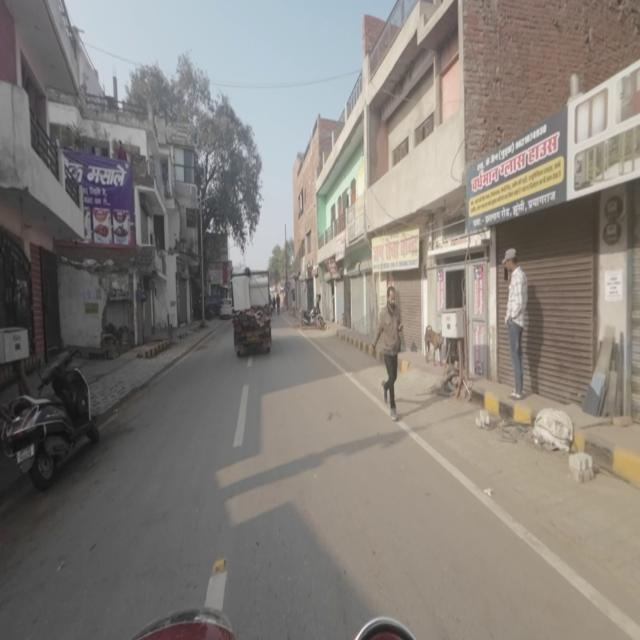Garbage: (529, 405, 574, 450), (568, 448, 596, 486), (473, 403, 492, 433)
